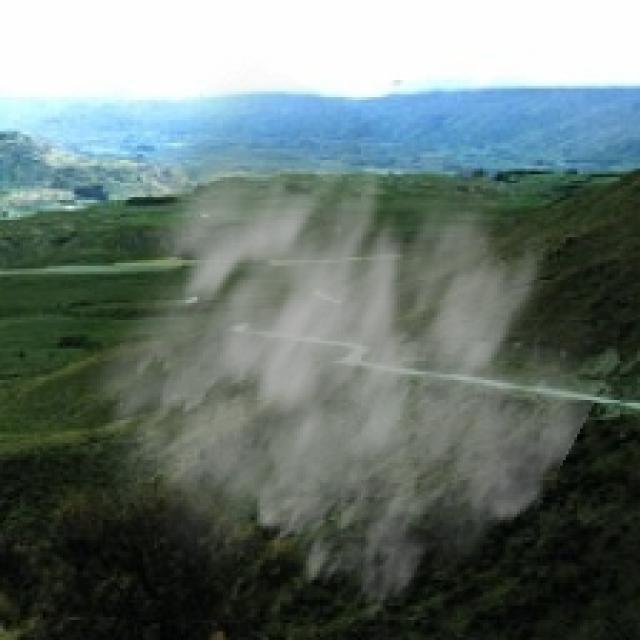Smoke: (68, 57, 623, 623)
